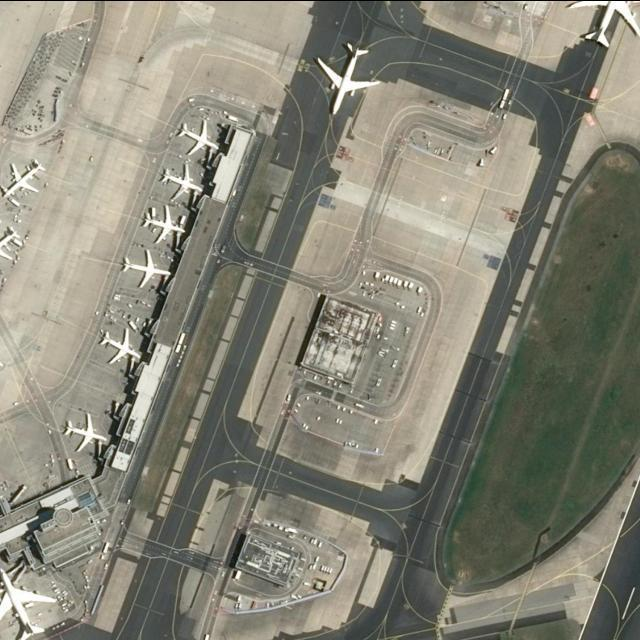Aircraft: (314, 37, 380, 114), (314, 39, 380, 114), (0, 565, 57, 639), (0, 565, 55, 639), (565, 0, 638, 47), (568, 1, 639, 47), (143, 199, 187, 247), (0, 155, 45, 201), (62, 409, 108, 454), (119, 249, 170, 289), (121, 247, 171, 287), (0, 156, 45, 198), (141, 201, 186, 243), (158, 160, 204, 201), (62, 410, 108, 451), (98, 325, 143, 365), (179, 117, 221, 159), (176, 116, 220, 156), (99, 325, 143, 365), (160, 163, 202, 201), (1, 222, 23, 268), (0, 223, 21, 263)
